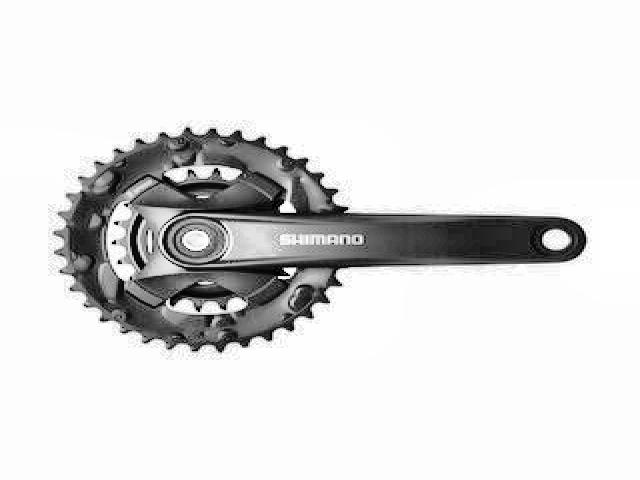cranks_set: (44, 123, 591, 356)
